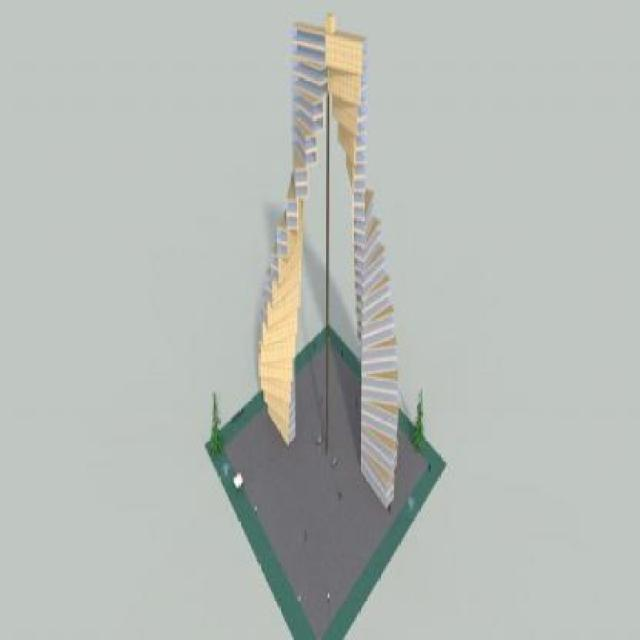stair: (326, 20, 399, 512), (257, 21, 329, 454)
